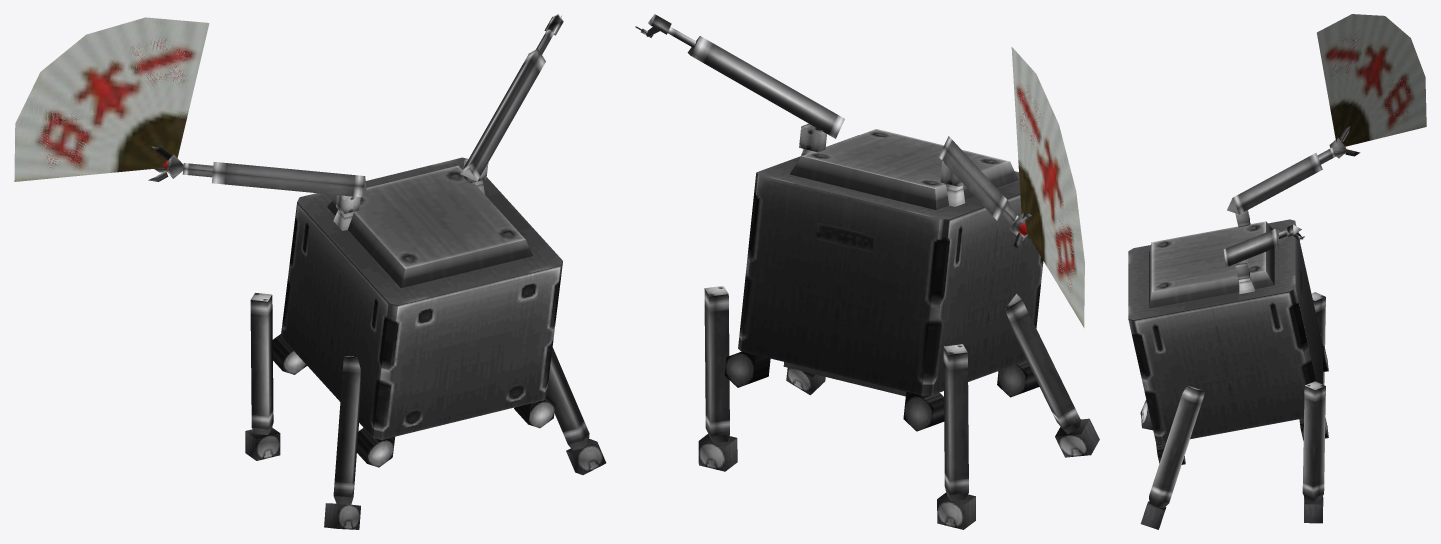
File: icon.ico.obj
3 renders of one model, left to right at view 1: azimuth 30°, elevation 25°; view 2: azimuth 150°, elevation 25°; view 3: azimuth 270°, elevation 25°, orthographic. The views are drawn at different scales.
Size of the model in its own units: 2.48 by 2.24 by 1.58.
1 material, 1 textured.
